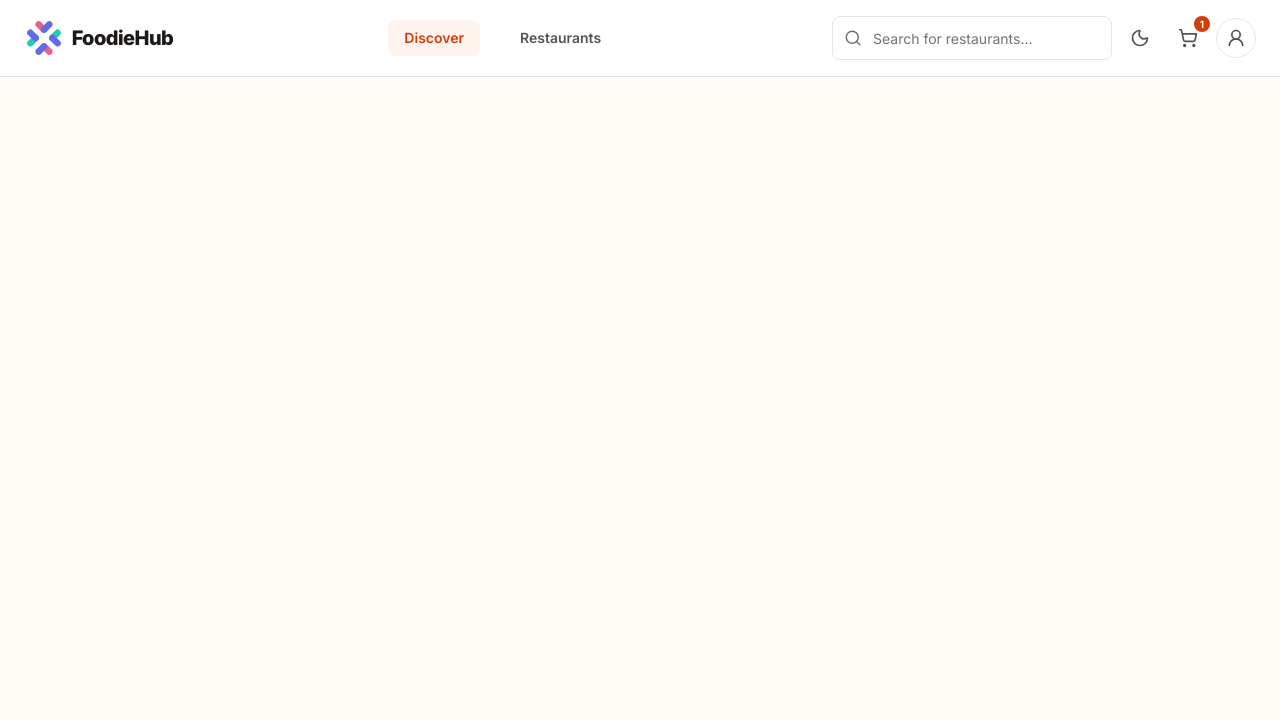
Header component › opening cart with click
The image size is (1280, 720).
Click the button with test id "cart" at (1188, 38), box [1168,18,1208,58]
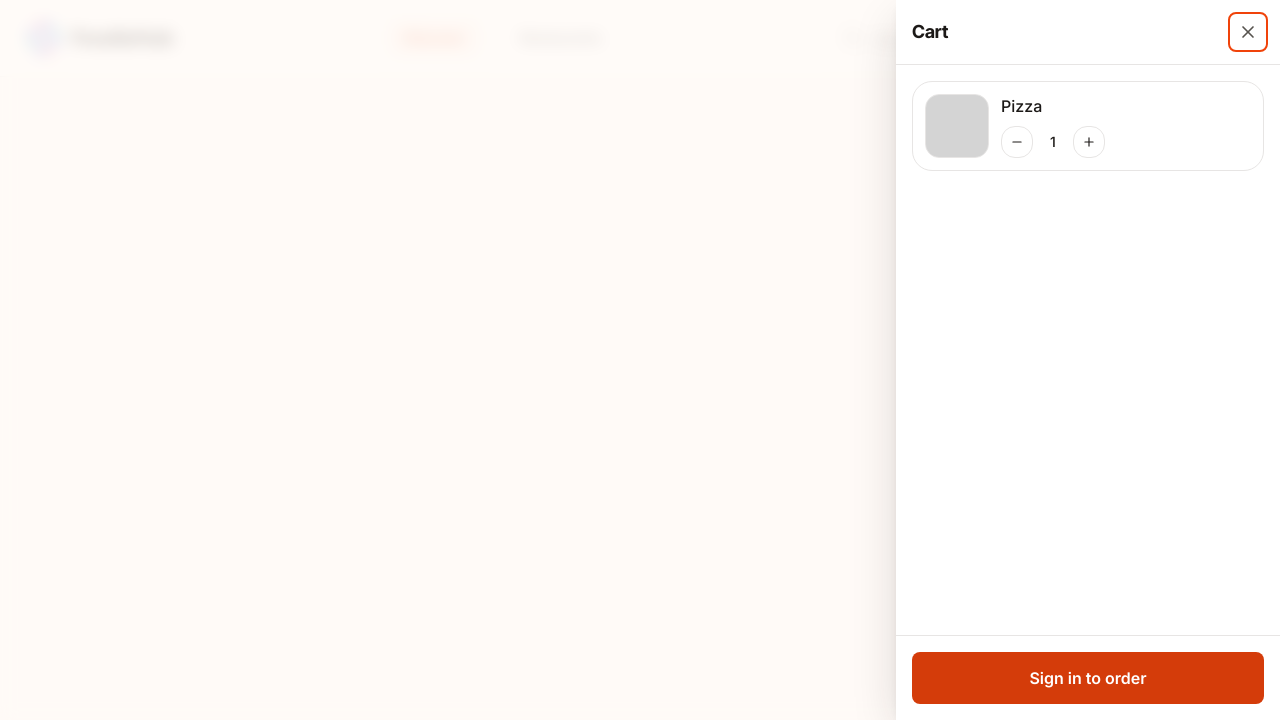
expect the heading "Cart" is shown: met, box [912,18,948,46]
expect the heading "Pizza" is shown: met, box [1001,96,1042,116]
